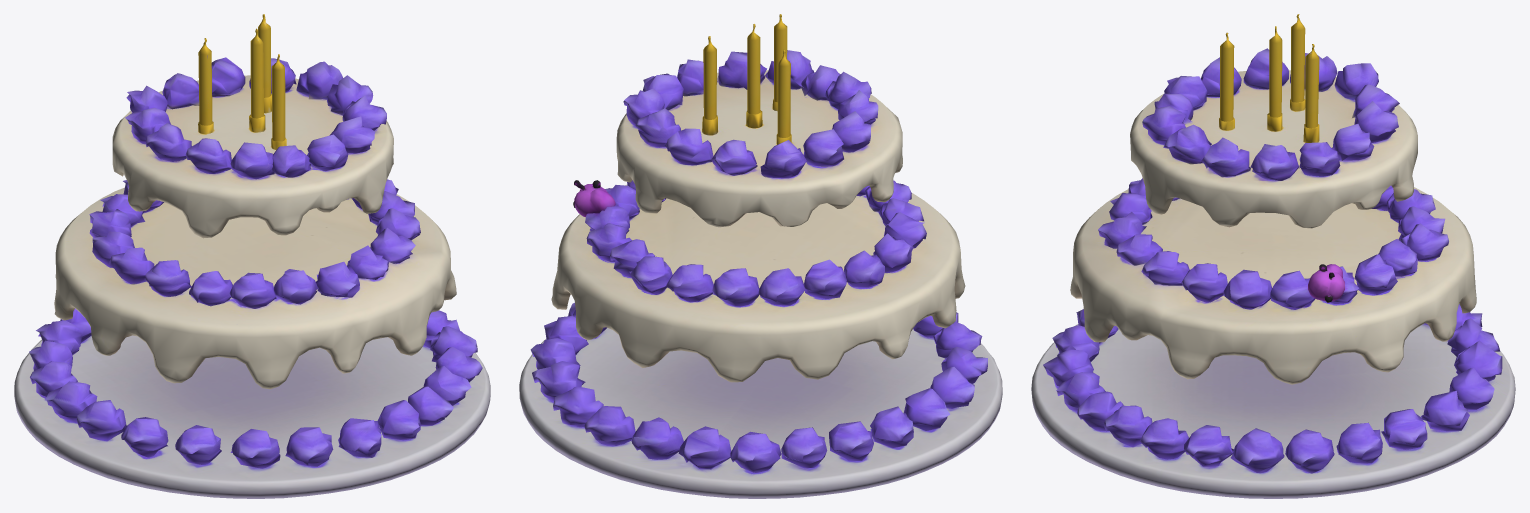
File: r33-cake.glb
The picture shows the model from 3 angles, left to right: view 1: azimuth 30°, elevation 25°; view 2: azimuth 150°, elevation 25°; view 3: azimuth 270°, elevation 25°; orthographic projection.
Visible parts, largest first — view 1: tripo_node_a94d50b4-0cde-4d0d-9e55-bc111ec997d1; view 2: tripo_node_a94d50b4-0cde-4d0d-9e55-bc111ec997d1; view 3: tripo_node_a94d50b4-0cde-4d0d-9e55-bc111ec997d1.
Part boxes in pixels (bbox=[...]): tripo_node_a94d50b4-0cde-4d0d-9e55-bc111ec997d1: bbox=[14, 14, 490, 498]; tripo_node_a94d50b4-0cde-4d0d-9e55-bc111ec997d1: bbox=[519, 14, 1002, 498]; tripo_node_a94d50b4-0cde-4d0d-9e55-bc111ec997d1: bbox=[1031, 14, 1515, 498].
Bounding box in the file's own units: 0.998 × 0.8496 × 0.998.
Materials: 1 (1 with a texture image).
